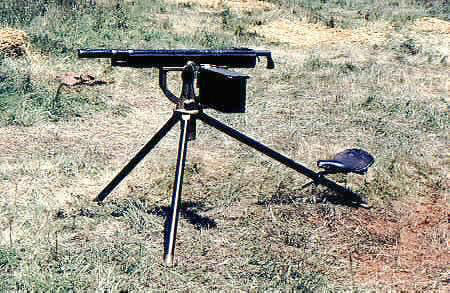rifle: (73, 37, 279, 78)
